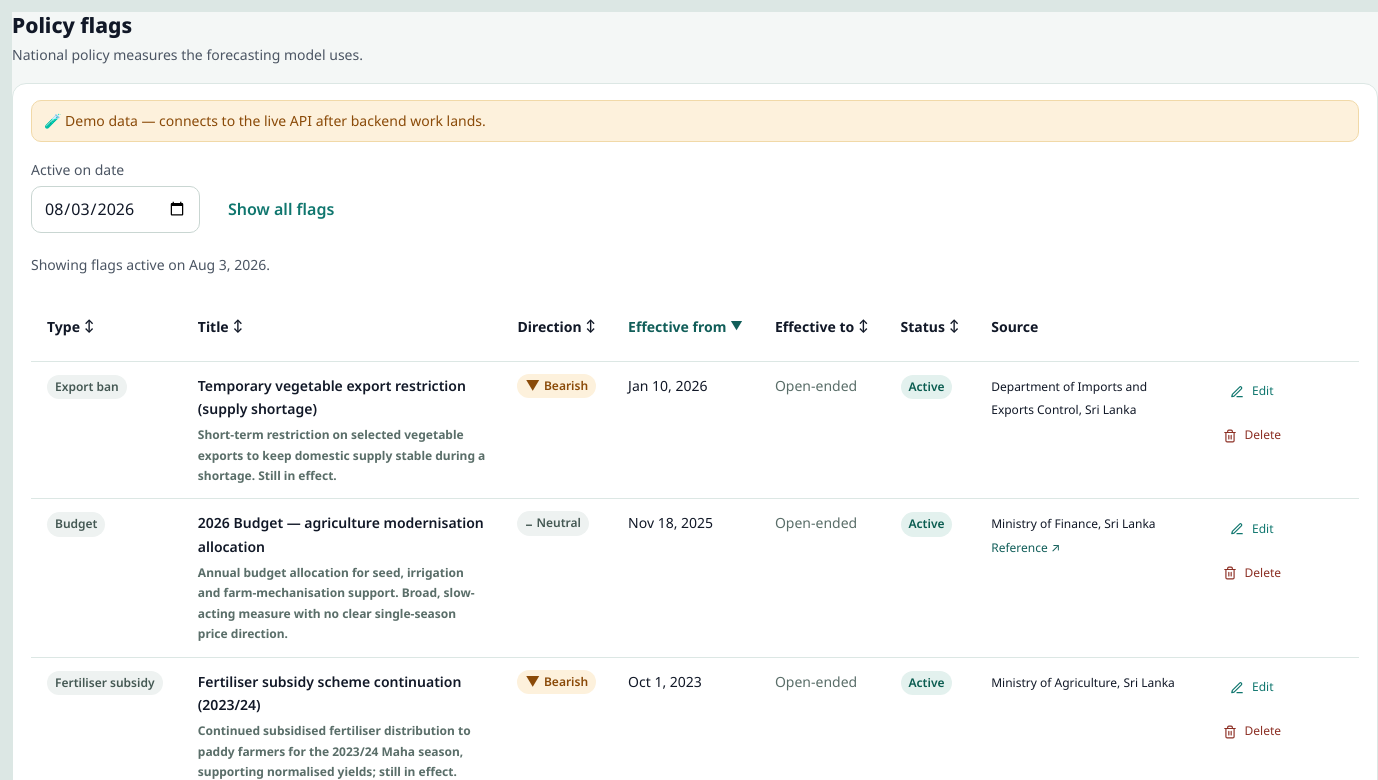
Scenario: Admin console pages › PolicyFlagsPage (ADM-2) › defaults to TODAY (active flags only), and "Show all flags" reveals the full register
Expected: the text "Active" in the row of "Export ban" is shown, [908, 378, 944, 395]
Expected: the text "Scheduled" is not shown
Click the button "Show all flags" at (281, 209), box [212, 186, 350, 233]
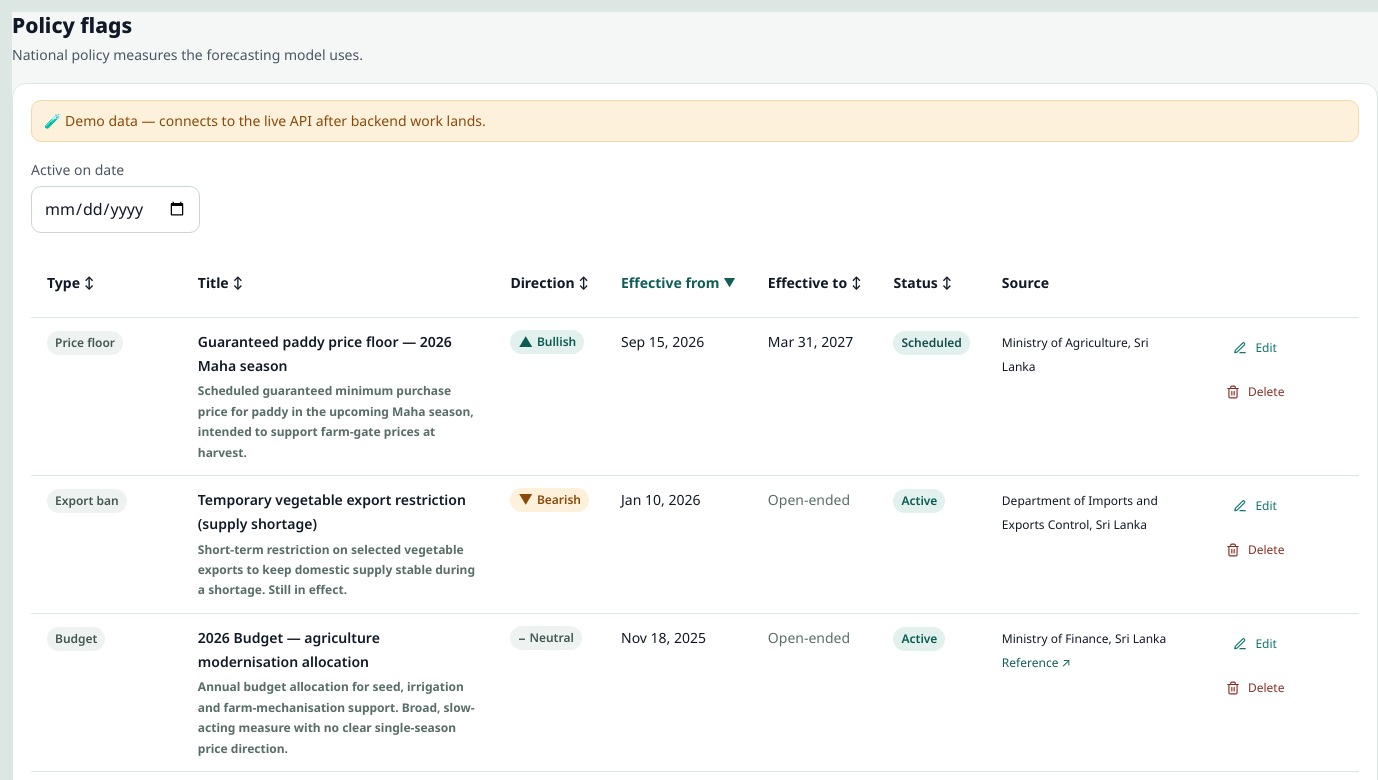
Result: the text "Scheduled" is shown at [894, 331, 970, 355]
